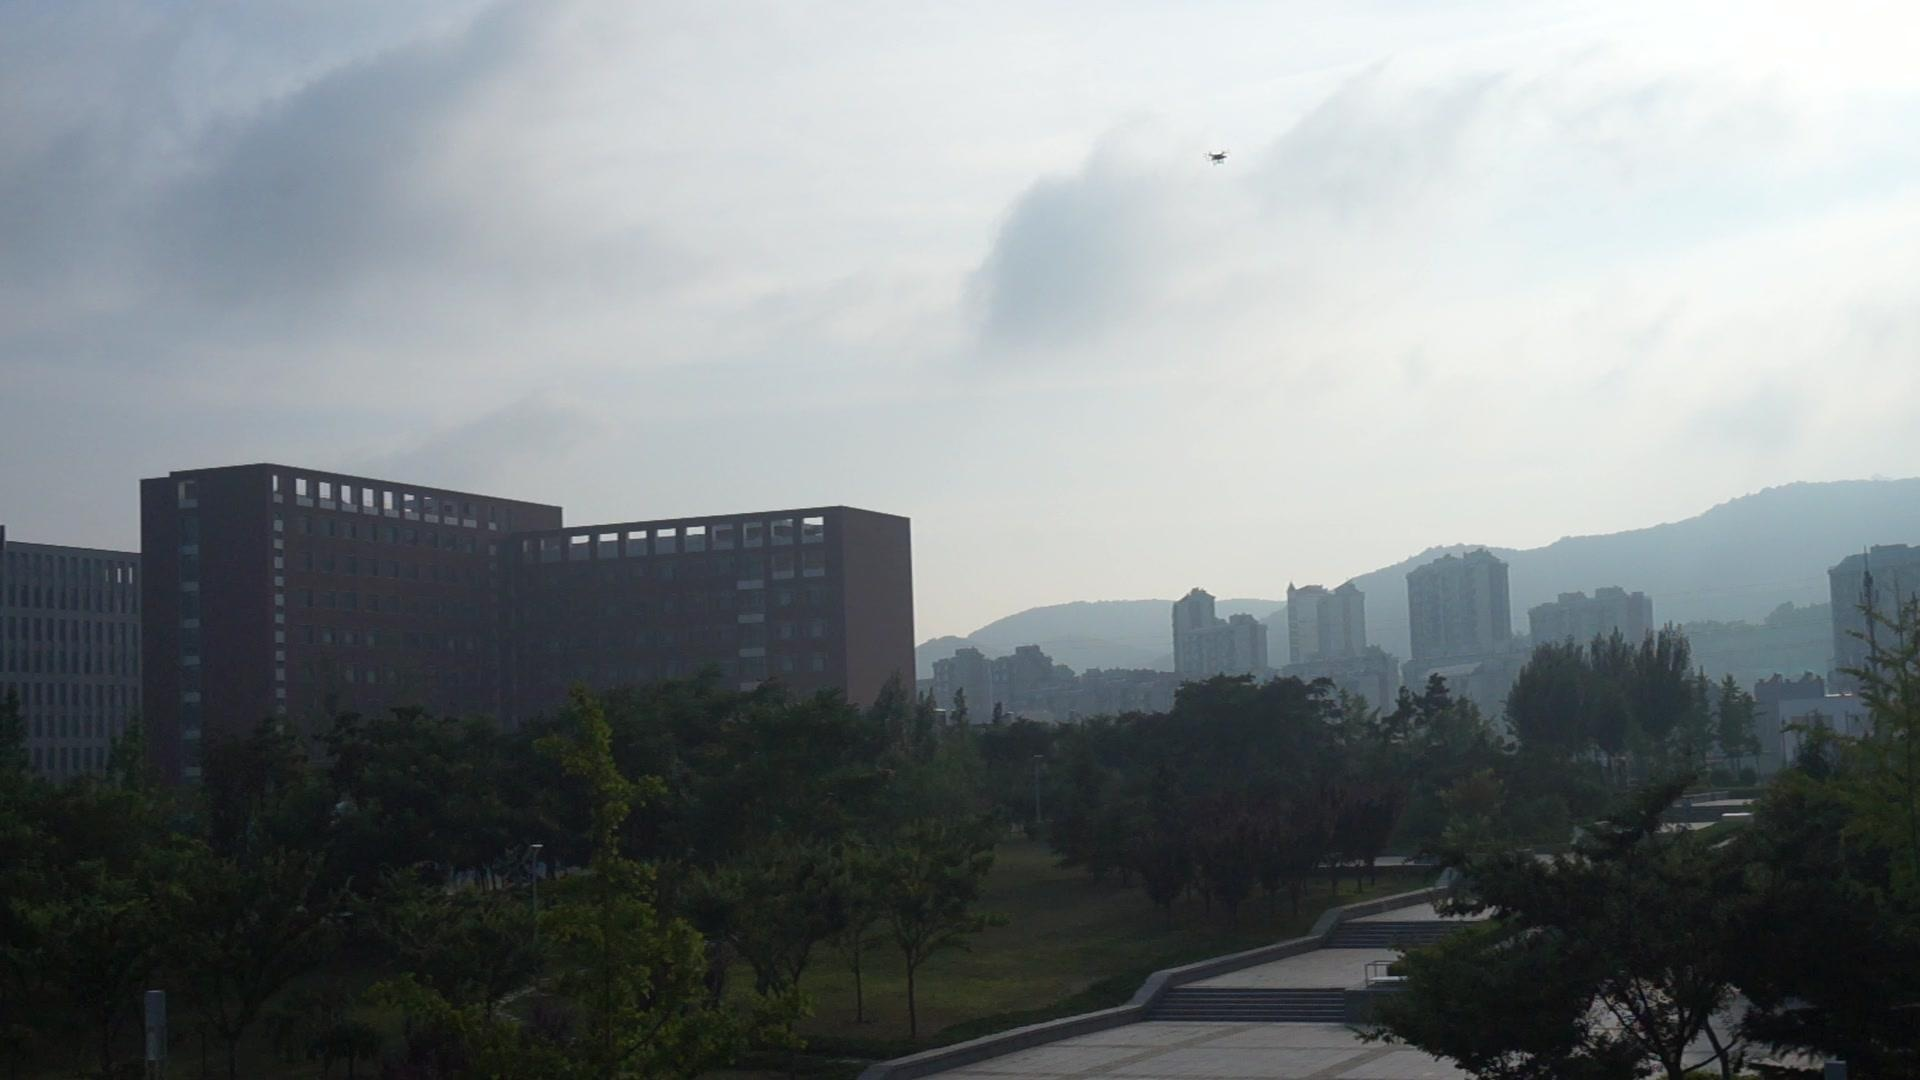UAV: (1204, 150, 1233, 166)
